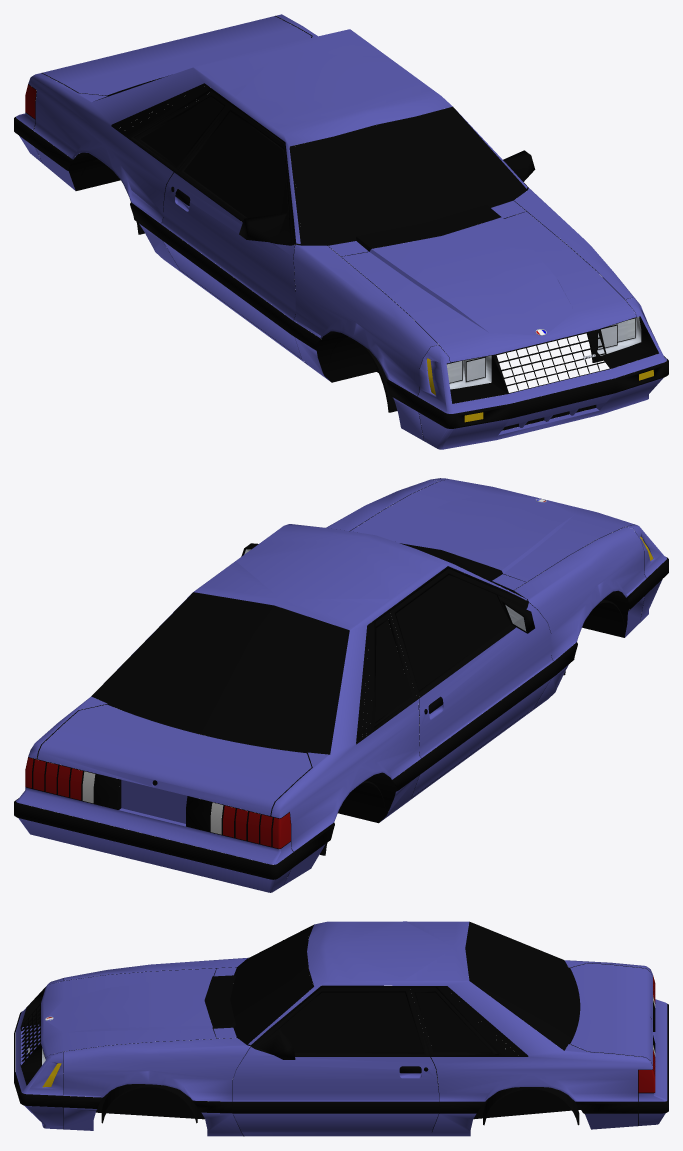
3 views of the same model, one above another, from view 1: azimuth 30°, elevation 25°; view 2: azimuth 150°, elevation 25°; view 3: azimuth 270°, elevation 25° (orthographic). The views are drawn at different scales.
Visible parts, largest first — view 1: material_9_16, material_0_16, material_2_16, material_9_24, material_1_1_0; view 2: material_9_16, material_0_16, material_2_16, material_8_16, material_7_16; view 3: material_9_16, material_0_16, material_2_16, material_9_24, material_8_16.
Part boxes in pixels (x1=…): material_9_16: x1=16, y1=14, x2=666, y2=440; material_0_16: x1=25, y1=15, x2=668, y2=440; material_2_16: x1=14, y1=83, x2=658, y2=412; material_9_24: x1=419, y1=378, x2=663, y2=449; material_1_1_0: x1=446, y1=317, x2=641, y2=389; material_9_16: x1=16, y1=478, x2=666, y2=892; material_0_16: x1=26, y1=480, x2=668, y2=877; material_2_16: x1=14, y1=543, x2=648, y2=879; material_8_16: x1=25, y1=757, x2=290, y2=848; material_7_16: x1=82, y1=771, x2=223, y2=834; material_9_16: x1=15, y1=921, x2=667, y2=1136; material_0_16: x1=14, y1=921, x2=655, y2=1136; material_2_16: x1=20, y1=925, x2=668, y2=1125; material_9_24: x1=21, y1=1024, x2=63, y2=1129; material_8_16: x1=638, y1=975, x2=655, y2=1092.
Bounding box in the file's own units: 1.81 × 1.15 × 4.56.
Materials: 13 (1 with a texture image).
